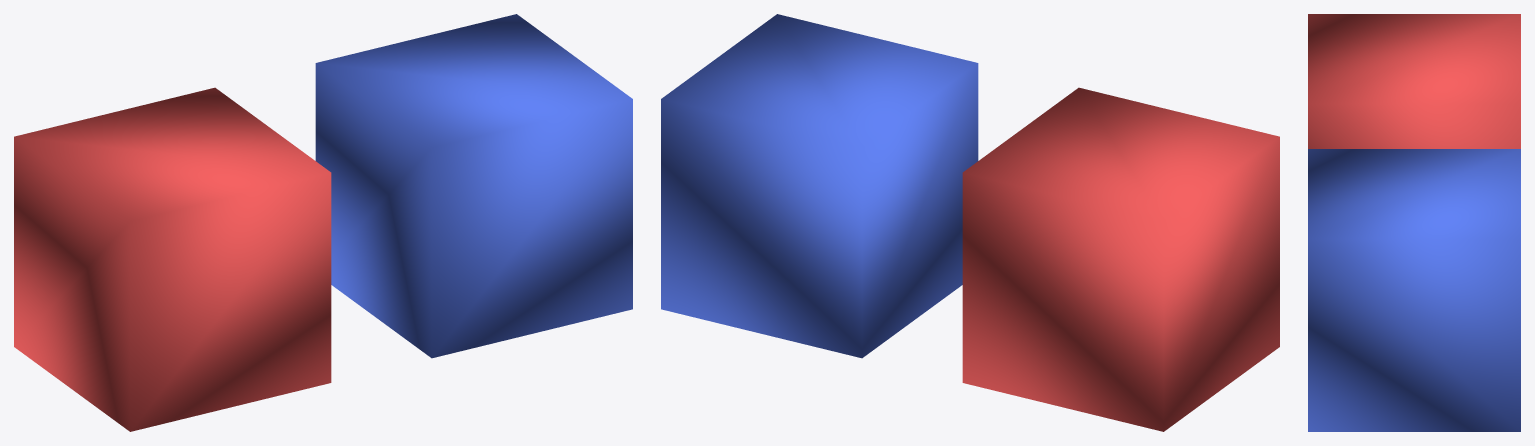
Rendered from two_materials.glb.
The picture shows the model from 3 angles, left to right: view 1: azimuth 30°, elevation 25°; view 2: azimuth 150°, elevation 25°; view 3: azimuth 270°, elevation 25°; orthographic projection. The views are drawn at different scales.
Parts seen in each view (by area): view 1: red, blue; view 2: red, blue; view 3: blue, red.
Part boxes in pixels (x1=…): red: x1=14, y1=87, x2=331, y2=431; blue: x1=315, y1=14, x2=632, y2=358; red: x1=962, y1=87, x2=1279, y2=431; blue: x1=661, y1=14, x2=978, y2=358; blue: x1=1308, y1=149, x2=1520, y2=431; red: x1=1308, y1=14, x2=1520, y2=148.
Bounding box in the file's own units: 2.5 × 1 × 1.
